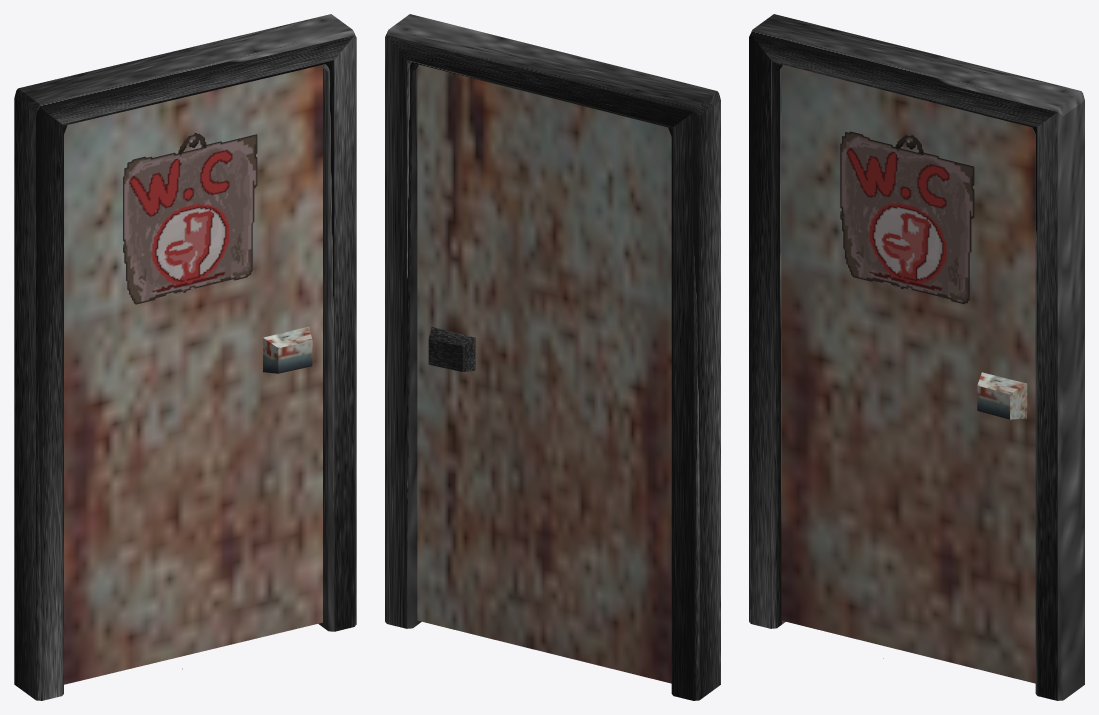
File: Porta.fbx
The picture shows the model from 3 angles, left to right: view 1: azimuth 30°, elevation 25°; view 2: azimuth 150°, elevation 25°; view 3: azimuth 330°, elevation 25°; orthographic projection.
Parts seen in each view (by area): view 1: Porta, Porta Molde; view 2: Porta, Porta Molde; view 3: Porta, Porta Molde.
Boxes of the visible parts, bbox=[...] form: Porta: bbox=[64, 65, 322, 684]; Porta Molde: bbox=[14, 14, 356, 700]; Porta: bbox=[417, 64, 671, 683]; Porta Molde: bbox=[385, 14, 720, 700]; Porta: bbox=[781, 64, 1035, 683]; Porta Molde: bbox=[749, 14, 1084, 700].
Bounding box in the file's own units: 134 × 239 × 22.96.
Materials: 4 (4 with a texture image).
